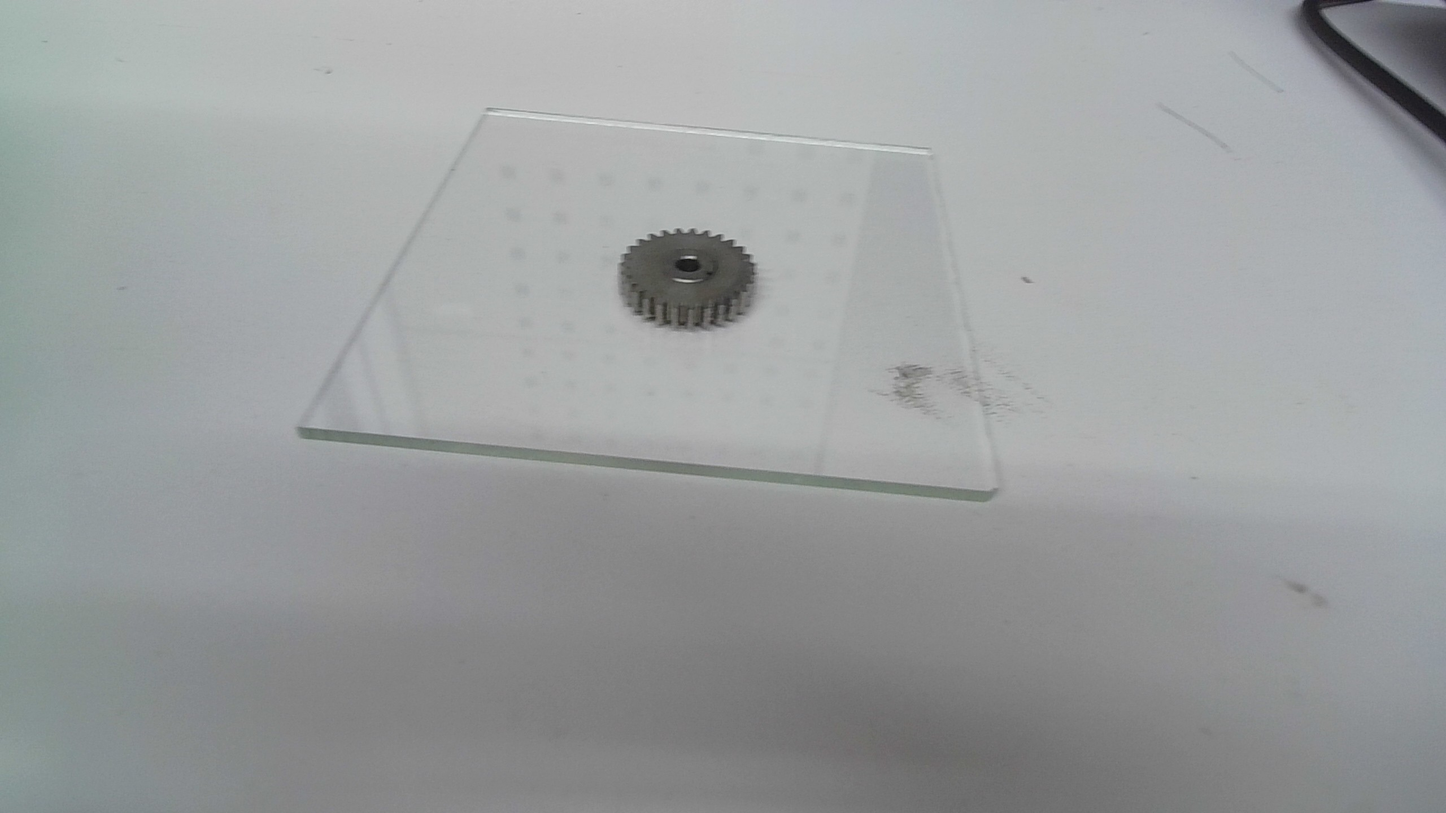gear: (615, 225, 761, 334)
